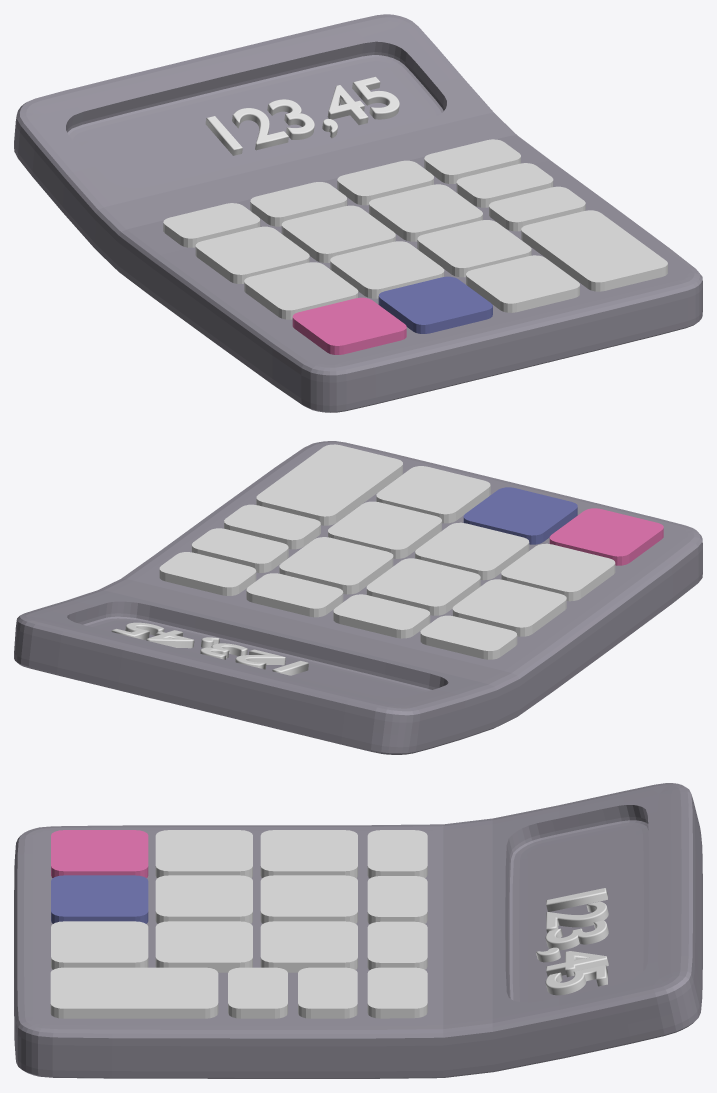
Rendered from Calculator.fbx.
3 renders of one model, top to bottom at view 1: azimuth 30°, elevation 25°; view 2: azimuth 150°, elevation 25°; view 3: azimuth 270°, elevation 25°, orthographic. The views are drawn at different scales.
Visible parts, largest first — view 1: calculator, Plane.028, numbers, Plane.037, Plane.036, Plane.035, Plane.034, Plane.040, Plane.039, Plane.042, Plane.038, Plane.041 (+6 smaller); view 2: calculator, Plane.028, Plane.034, Plane.039, Plane.038, Plane.040, Plane.037, Plane.036, Plane.042, Plane.041, Plane.035, Plane.029 (+6 smaller); view 3: calculator, Plane.028, numbers, Plane.039, Plane.042, Plane.038, Plane.041, Plane.035, Plane.036, Plane.040, Plane.034, Plane.037 (+6 smaller).
Boxes of the visible parts, x1=… form: calculator: x1=14, y1=14, x2=702, y2=412; Plane.028: x1=521, y1=210, x2=667, y2=291; numbers: x1=205, y1=76, x2=399, y2=155; Plane.037: x1=292, y1=297, x2=406, y2=354; Plane.036: x1=466, y1=255, x2=579, y2=312; Plane.035: x1=378, y1=276, x2=492, y2=333; Plane.034: x1=195, y1=226, x2=309, y2=283; Plane.040: x1=244, y1=262, x2=358, y2=319; Plane.039: x1=369, y1=184, x2=482, y2=241; Plane.042: x1=417, y1=220, x2=531, y2=277; Plane.038: x1=281, y1=205, x2=395, y2=262; Plane.041: x1=330, y1=241, x2=444, y2=298; calculator: x1=14, y1=441, x2=702, y2=754; Plane.028: x1=256, y1=444, x2=402, y2=525; Plane.034: x1=452, y1=579, x2=566, y2=636; Plane.039: x1=279, y1=537, x2=393, y2=594; Plane.038: x1=366, y1=558, x2=480, y2=615; Plane.040: x1=501, y1=543, x2=615, y2=601; Plane.037: x1=549, y1=508, x2=663, y2=565; Plane.036: x1=376, y1=466, x2=490, y2=523; Plane.042: x1=328, y1=501, x2=441, y2=558; Plane.041: x1=415, y1=522, x2=529, y2=580; Plane.035: x1=463, y1=487, x2=577, y2=544; Plane.029: x1=333, y1=594, x2=430, y2=638; calculator: x1=14, y1=783, x2=702, y2=1078; Plane.028: x1=50, y1=967, x2=218, y2=1018; numbers: x1=536, y1=888, x2=608, y2=995; Plane.039: x1=260, y1=921, x2=357, y2=972; Plane.042: x1=155, y1=921, x2=252, y2=972; Plane.038: x1=260, y1=875, x2=357, y2=923; Plane.041: x1=155, y1=875, x2=252, y2=923; Plane.035: x1=51, y1=875, x2=148, y2=923; Plane.036: x1=51, y1=921, x2=148, y2=969; Plane.040: x1=155, y1=830, x2=252, y2=878; Plane.034: x1=260, y1=830, x2=357, y2=877; Plane.037: x1=51, y1=830, x2=148, y2=877.
Bounding box in the file's own units: 77.95 × 16.21 × 107.
